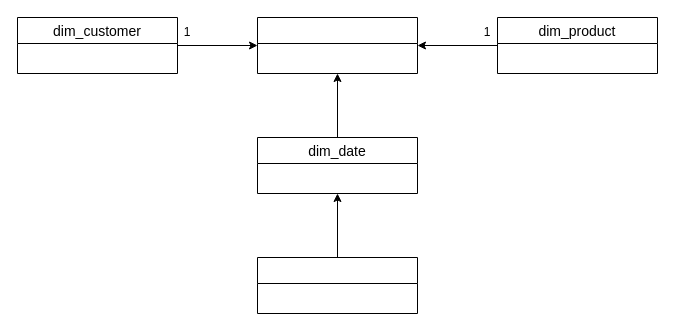
Image size: 675x331. Some labels were removed from this diagram. The centre of each missing label's shape, as x and y in pixels:
"dim_inflation" belongs at point 337,285.
"fact_sales" belongs at point 337,45.
